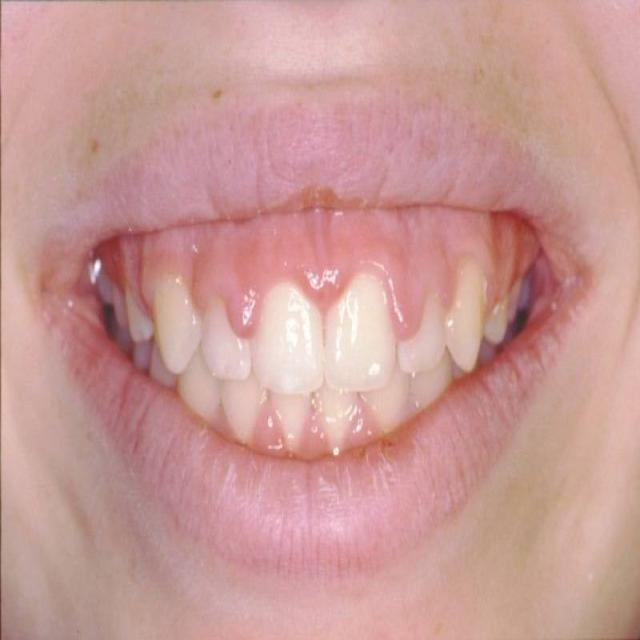tooth: (252, 284, 326, 386), (326, 280, 393, 388), (152, 284, 206, 369), (198, 301, 255, 381), (170, 359, 226, 427), (397, 293, 446, 367), (216, 382, 271, 447), (448, 268, 482, 366), (318, 388, 366, 452), (110, 277, 155, 344), (269, 393, 313, 453), (371, 369, 412, 427), (93, 278, 132, 330), (485, 292, 518, 344), (408, 363, 456, 396), (150, 350, 178, 386), (508, 275, 533, 306), (115, 334, 137, 365), (136, 345, 154, 365)
